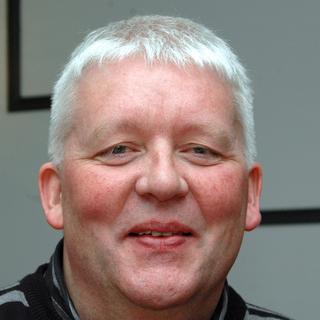eye: (177, 140, 226, 164), (93, 140, 142, 164)
